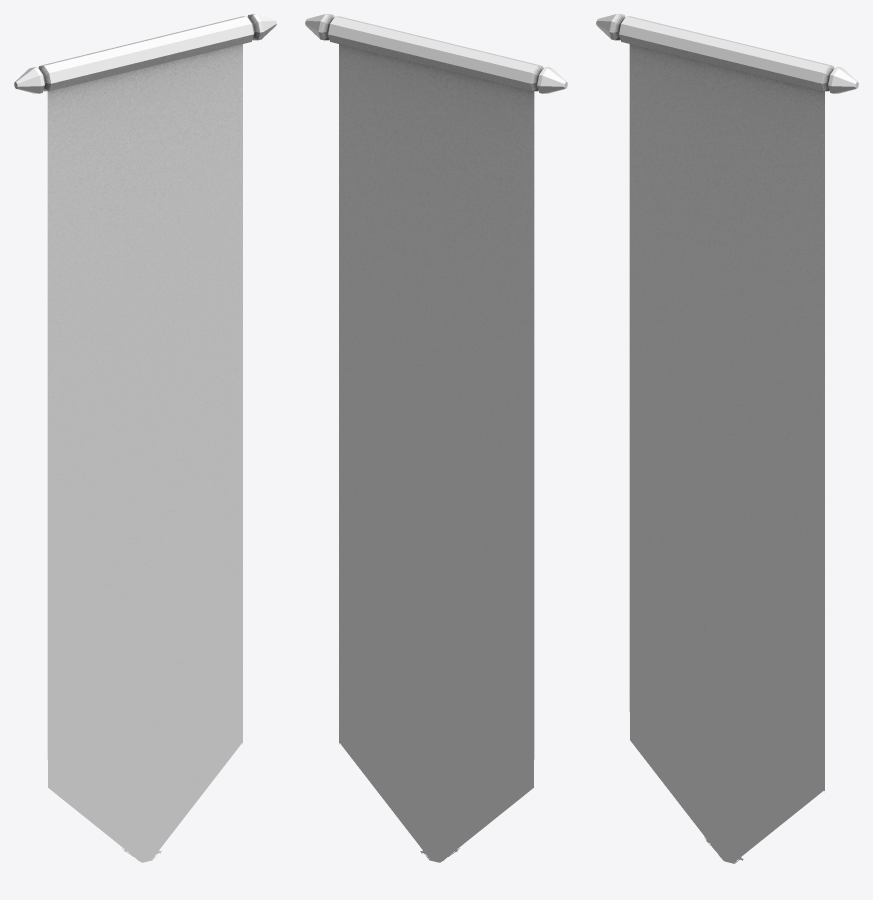
Rendered from Banner2.fbx.
The picture shows the model from 3 angles, left to right: view 1: azimuth 30°, elevation 25°; view 2: azimuth 150°, elevation 25°; view 3: azimuth 330°, elevation 25°; orthographic projection.
Parts seen in each view (by area): view 1: Banner2; view 2: Banner2; view 3: Banner2.
Part boxes in pixels (bbox=[...]): Banner2: bbox=[14, 14, 276, 862]; Banner2: bbox=[305, 14, 567, 862]; Banner2: bbox=[596, 14, 858, 863].
Size of the model in its own units: 51.13 by 155 by 4.83.
